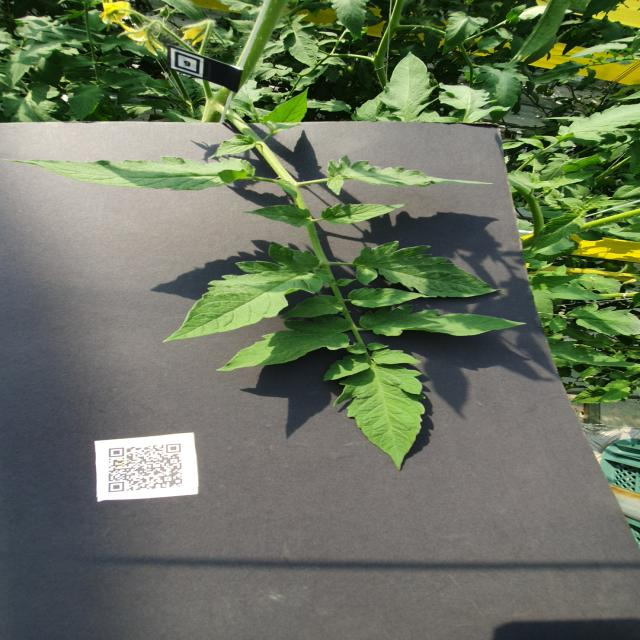Healthy Leaf: (162, 242, 337, 344), (325, 343, 427, 472), (353, 241, 506, 299), (14, 157, 258, 192), (216, 316, 353, 373), (327, 155, 495, 197), (359, 305, 528, 338), (379, 52, 441, 123), (557, 104, 640, 147), (475, 63, 530, 126), (545, 332, 640, 368), (439, 84, 512, 124), (529, 209, 589, 256), (276, 14, 323, 70), (565, 302, 640, 337), (263, 88, 309, 134), (442, 12, 490, 56), (320, 204, 410, 227), (349, 287, 433, 308), (327, 1, 371, 41), (67, 85, 112, 123), (244, 205, 314, 229), (281, 294, 345, 319), (530, 61, 588, 85), (207, 134, 256, 160), (546, 171, 601, 191), (529, 274, 585, 291), (595, 387, 633, 404)
